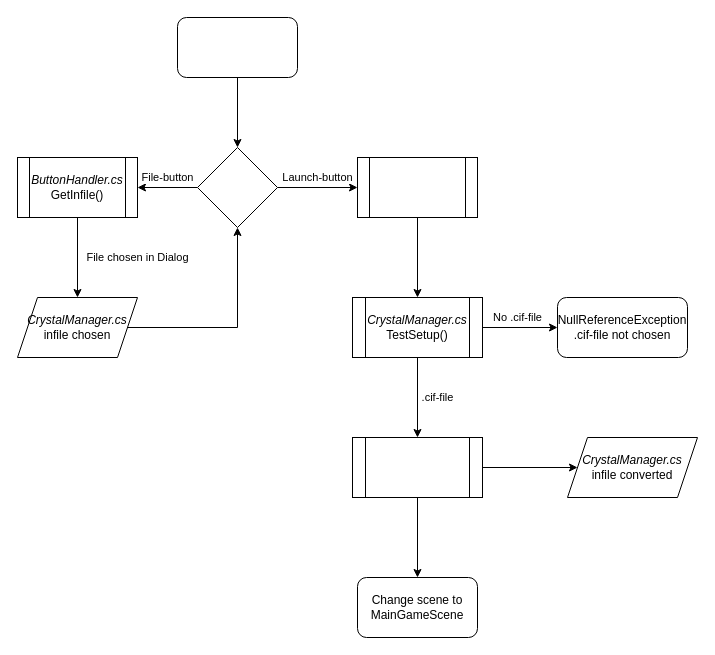
Image size: 715x655. Some labels were removed from this diagram. The shapes that lost their labels are listed below. From the top down, each one's box as (x1, y1, x2, y2) in pixels, then its label:
(176, 16, 298, 78): Main Menu
(356, 156, 478, 218): ButtonHandler.cs LaunchGame()
(352, 436, 482, 498): CrystalManager.cs ConvertCIF()
